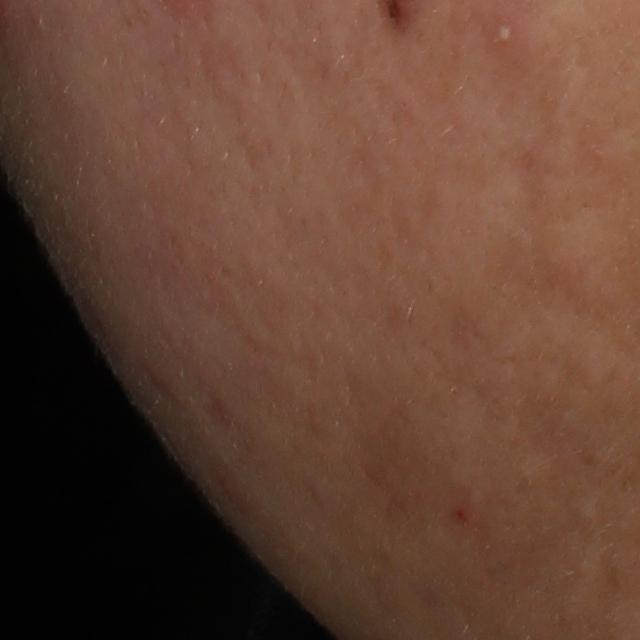hypertrophic_scar: (534, 209, 622, 308), (568, 493, 605, 539)
pustule: (487, 11, 520, 52)
